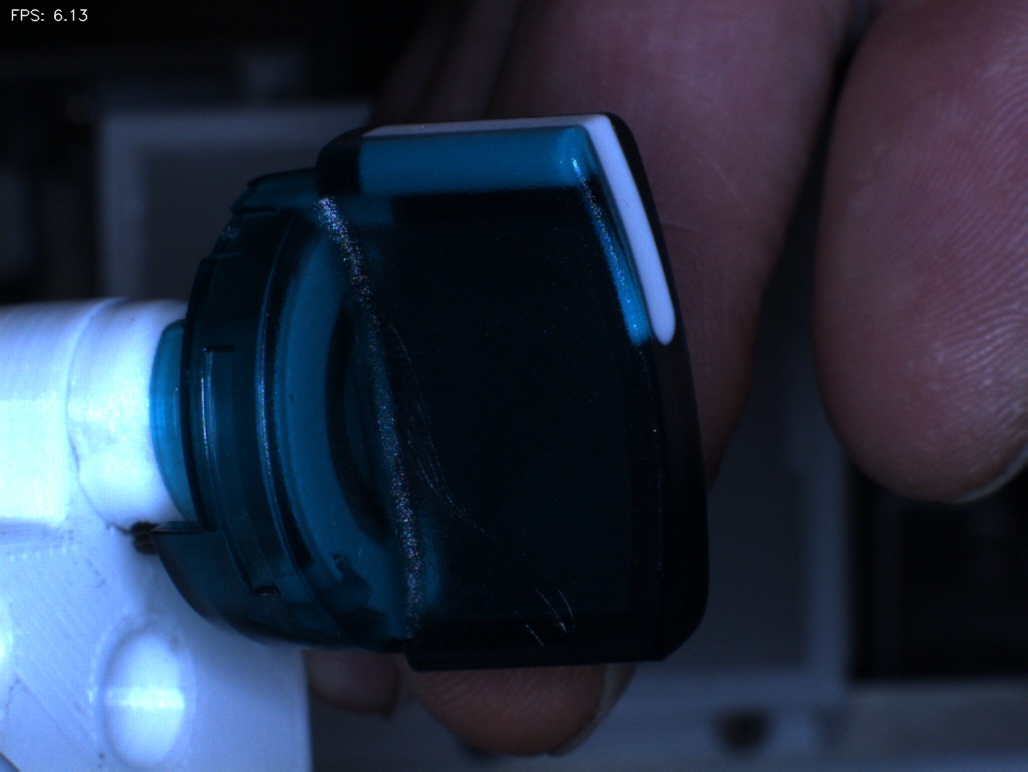Givrage: (381, 316, 465, 509), (469, 532, 588, 651)
